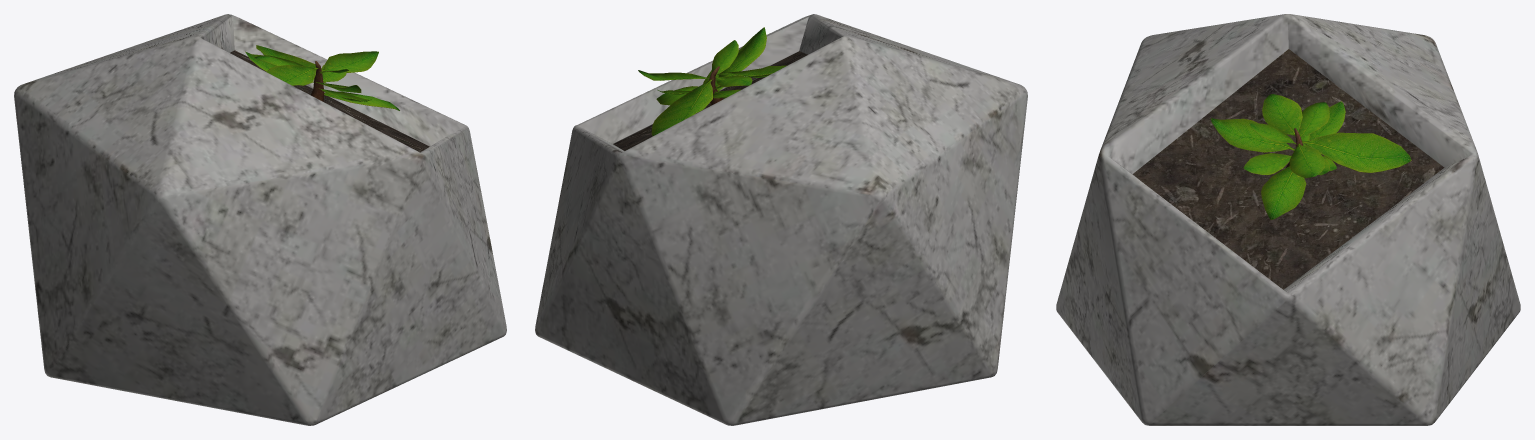
File: plant_in_pot.glb
3 views of the same model, side by side, from view 1: azimuth 30°, elevation 25°; view 2: azimuth 150°, elevation 25°; view 3: azimuth 270°, elevation 25° (orthographic).
Parts seen in each view (by area): view 1: Pot_Concrete_0, Leaf_Leaf_0, Ground_Ground_0; view 2: Pot_Concrete_0, Leaf_Leaf_0, Ground_Ground_0; view 3: Pot_Concrete_0, Ground_Ground_0, Leaf_Leaf_0.
Boxes of the visible parts, left/top/right/bottom form: Pot_Concrete_0: left=14, top=14, right=506, bottom=425; Leaf_Leaf_0: left=245, top=45, right=399, bottom=110; Ground_Ground_0: left=230, top=50, right=429, bottom=152; Pot_Concrete_0: left=535, top=14, right=1027, bottom=425; Leaf_Leaf_0: left=638, top=27, right=786, bottom=135; Ground_Ground_0: left=613, top=51, right=807, bottom=150; Pot_Concrete_0: left=1056, top=14, right=1520, bottom=425; Ground_Ground_0: left=1133, top=49, right=1444, bottom=289; Leaf_Leaf_0: left=1211, top=94, right=1411, bottom=219.
Bounding box in the file's own units: 1.17 × 0.8 × 1.13.
Materials: 4 (4 with a texture image).
